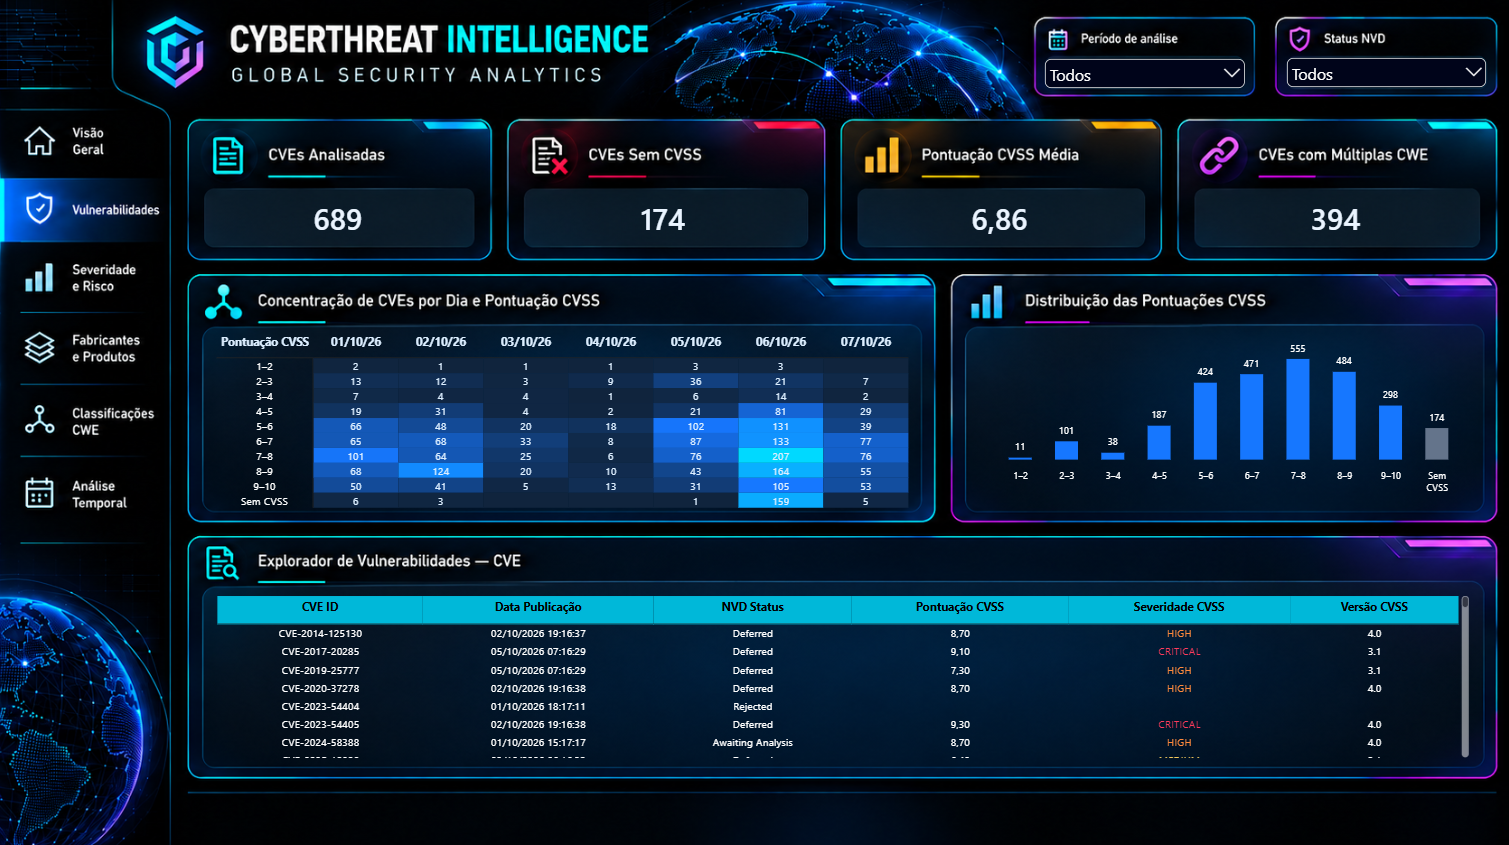

What the dashboard file says about the page in this screenshot:
{"tool":"powerbi","page":{"name":"Vulnerabilidades","canvas":[1920,1080],"ordinal":1},"visuals":[{"type":"slicer","fields":{"Values":["dim_status.status_nvd"]},"box":[1631.5,70.1,263.3,128.4],"z":0},{"type":"slicer","fields":{"Values":["dim_data.data"]},"box":[1323.6,70.9,263.6,128.2],"z":1000},{"type":"card","fields":{"Values":["_Medidas.CVEs Analisadas"]},"box":[260.1,238.4,340.4,81.6],"z":2000},{"type":"card","fields":{"Values":["_Medidas.CVEs Sem CVSS"]},"box":[664.2,238.4,358.2,81.6],"z":3000},{"type":"card","fields":{"Values":["_Medidas.Pontuação CVSS Média"]},"box":[1086.2,238.4,369.7,81.6],"z":4000},{"type":"card","fields":{"Values":["_Medidas.CVEs com Múltiplas CWE"]},"box":[1513.3,238.4,369.7,81.6],"z":5000},{"type":"pivotTable","fields":{"Columns":["dim_data.data"],"Rows":["fato_vulnerabilidade.Faixa Pontuação CVSS"],"Values":["_Medidas.Total CVEs Heatmap"]},"box":[260.7,410.2,915.7,259.4],"z":6000},{"type":"clusteredColumnChart","fields":{"Category":["fato_vulnerabilidade.Faixa Pontuação CVSS"],"Y":["_Medidas.Total CVEs"]},"box":[1228,410.2,655,236.9],"z":7000},{"type":"tableEx","fields":{"Values":["fato_vulnerabilidade.cve_id","fato_vulnerabilidade.data_publicacao","fato_vulnerabilidade.status_nvd","fato_vulnerabilidade.cvss_pontuacao","fato_vulnerabilidade.cvss_severidade","fato_vulnerabilidade.cvss_versao"]},"box":[260.5,744.6,1622.5,235.1],"z":8000},{"type":"actionButton","box":[10.2,322.7,81.3,66.1],"z":9000},{"type":"actionButton","box":[10.2,420.6,78.8,57.2],"z":10000},{"type":"actionButton","box":[0,513.3,88.9,59.7],"z":10001},{"type":"actionButton","box":[10,595,78.8,68.8],"z":10002},{"type":"actionButton","box":[22.5,156.2,52.5,53.8],"z":10003}]}

Visuals, with their boxes on the page's 1920x1080 design canvas (x1, y1, x2, y2). These are canvas units, not pixel positions in the 1509x845 screenshot, which may show the page scaled, cropped or inside an application window:
slicer - dim_status.status_nvd: {"left": 1632, "top": 70, "right": 1895, "bottom": 198}
slicer - dim_data.data: {"left": 1324, "top": 71, "right": 1587, "bottom": 199}
card - _Medidas.CVEs Analisadas: {"left": 260, "top": 238, "right": 600, "bottom": 320}
card - _Medidas.CVEs Sem CVSS: {"left": 664, "top": 238, "right": 1022, "bottom": 320}
card - _Medidas.Pontuação CVSS Média: {"left": 1086, "top": 238, "right": 1456, "bottom": 320}
card - _Medidas.CVEs com Múltiplas CWE: {"left": 1513, "top": 238, "right": 1883, "bottom": 320}
pivotTable - dim_data.data x fato_vulnerabilidade.Faixa Pontuação CVSS: {"left": 261, "top": 410, "right": 1176, "bottom": 670}
clusteredColumnChart - fato_vulnerabilidade.Faixa Pontuação CVSS x _Medidas.Total CVEs: {"left": 1228, "top": 410, "right": 1883, "bottom": 647}
tableEx - fato_vulnerabilidade.cve_id x fato_vulnerabilidade.data_publicacao: {"left": 260, "top": 745, "right": 1883, "bottom": 980}
actionButton: {"left": 10, "top": 323, "right": 92, "bottom": 389}
actionButton: {"left": 10, "top": 421, "right": 89, "bottom": 478}
actionButton: {"left": 0, "top": 513, "right": 89, "bottom": 573}
actionButton: {"left": 10, "top": 595, "right": 89, "bottom": 664}
actionButton: {"left": 22, "top": 156, "right": 75, "bottom": 210}
